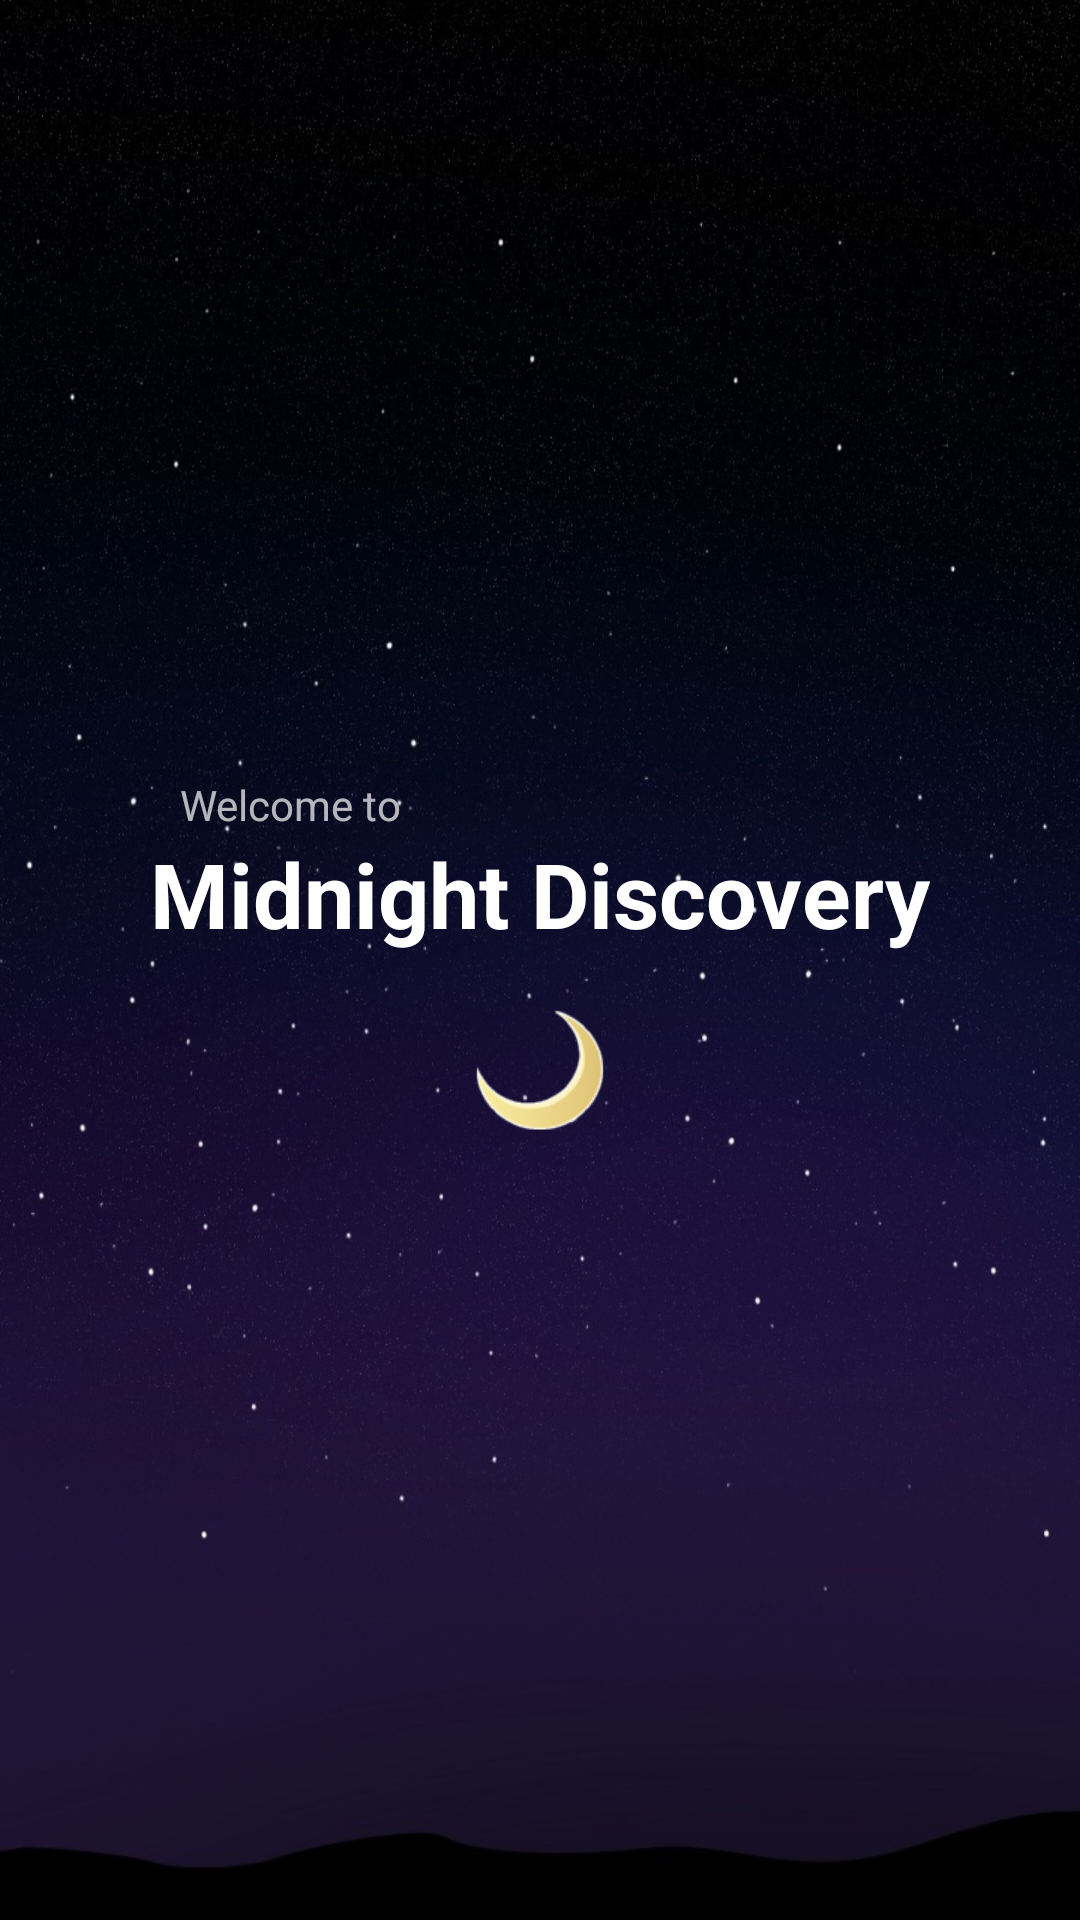

Where to tap for icons on this 1080*1920 app screen, as point (x, y):
Moon: point (538, 1070)
